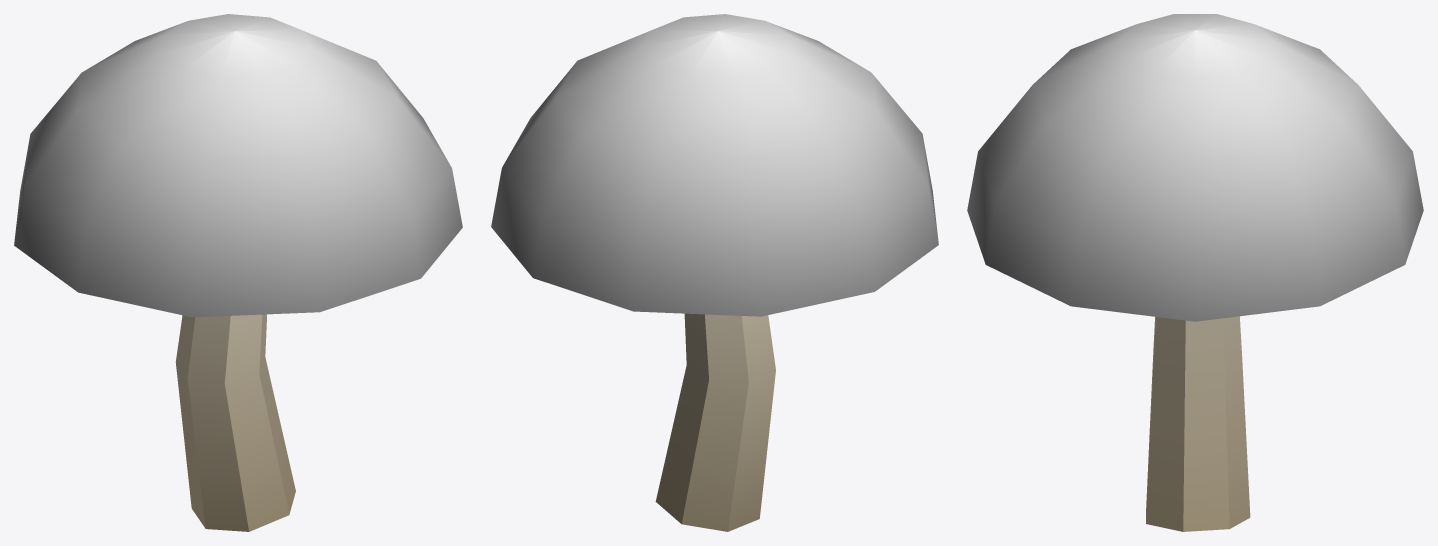
The model's file is cave_mushroom.glb.
3 renders of one model, left to right at view 1: azimuth 30°, elevation 25°; view 2: azimuth 150°, elevation 25°; view 3: azimuth 270°, elevation 25°, orthographic.
Parts seen in each view (by area): view 1: cave_mushroom, cave_mushroom_trim; view 2: cave_mushroom, cave_mushroom_trim; view 3: cave_mushroom, cave_mushroom_trim.
Boxes of the visible parts, <box> form: cave_mushroom: <box>14,14,462,317</box>; cave_mushroom_trim: <box>175,314,295,531</box>; cave_mushroom: <box>491,14,938,316</box>; cave_mushroom_trim: <box>655,313,775,531</box>; cave_mushroom: <box>967,14,1423,321</box>; cave_mushroom_trim: <box>1146,316,1250,531</box>.
Size of the model in its own units: 0.823 by 0.986 by 0.8314.
